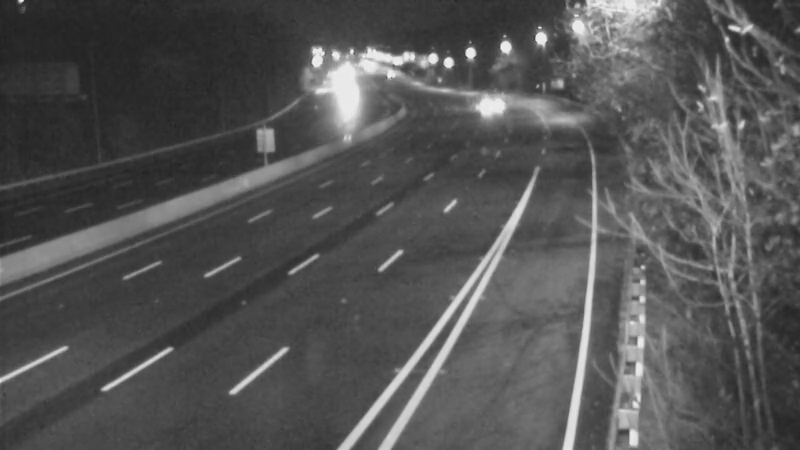vehicle: (361, 49, 411, 99), (458, 77, 508, 127), (322, 67, 372, 117)
